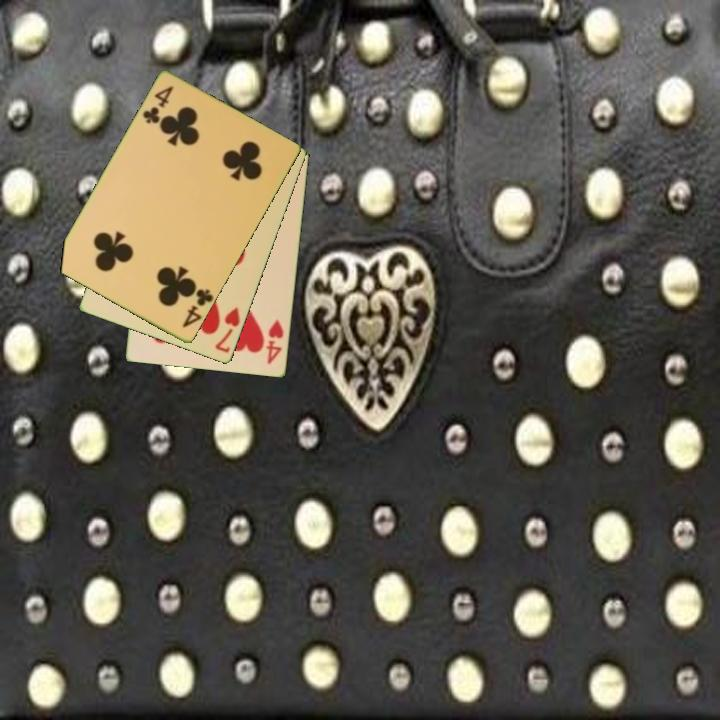4c: (139, 82, 177, 127), (179, 286, 216, 331)
4h: (263, 316, 287, 367)
7h: (212, 304, 243, 356)
